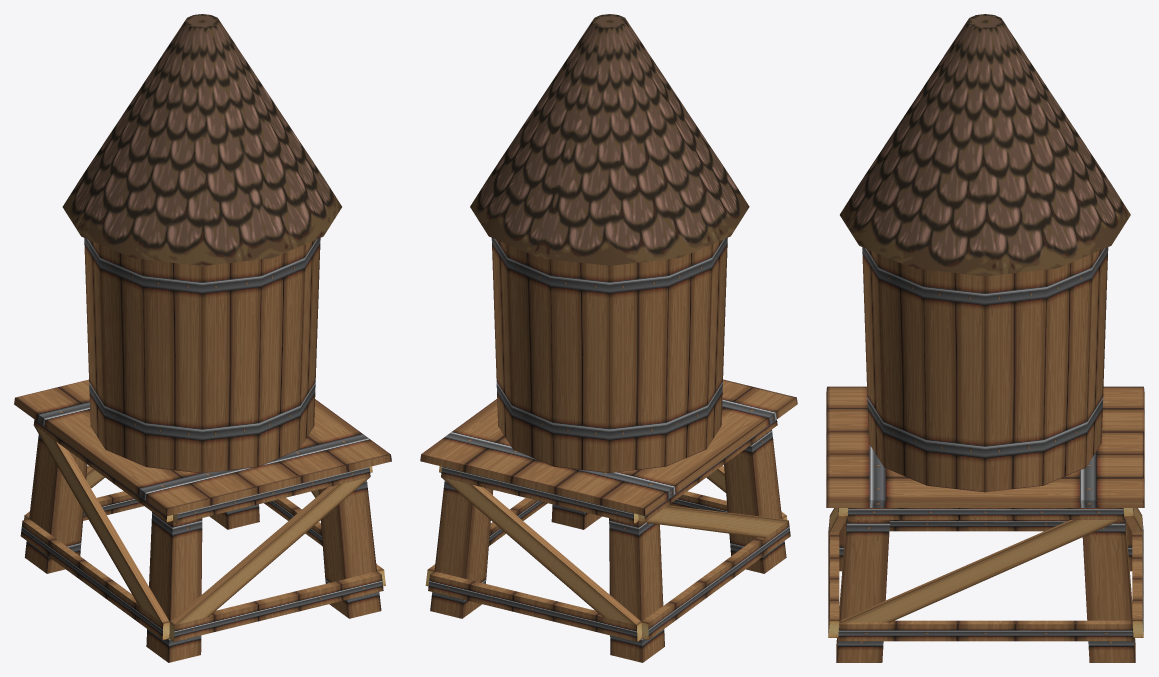
Rendered from Tank_04.FBX.
3 views of the same model, side by side, from view 1: azimuth 30°, elevation 25°; view 2: azimuth 150°, elevation 25°; view 3: azimuth 270°, elevation 25° (orthographic). The views are drawn at different scales.
Parts seen in each view (by area): view 1: Tank, Base; view 2: Tank, Base; view 3: Tank, Base.
Boxes of the visible parts, x1=… form: Tank: x1=62, y1=14, x2=341, y2=473; Base: x1=14, y1=379, x2=391, y2=662; Tank: x1=470, y1=14, x2=749, y2=472; Base: x1=420, y1=379, x2=797, y2=662; Tank: x1=840, y1=14, x2=1130, y2=492; Base: x1=826, y1=386, x2=1144, y2=662.
Size of the model in its own units: 3.32 by 7.36 by 3.62.
